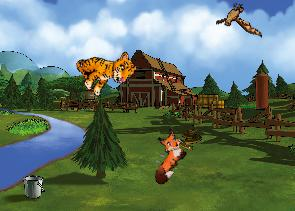eagle: (215, 2, 262, 38)
fox: (136, 125, 195, 187)
tiger: (70, 35, 140, 103)
